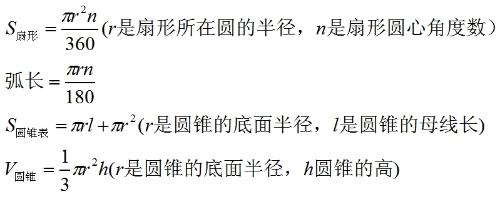division: (63, 78, 99, 86), (59, 168, 72, 173)
square: (77, 2, 91, 13), (128, 113, 137, 124), (91, 154, 97, 168)
